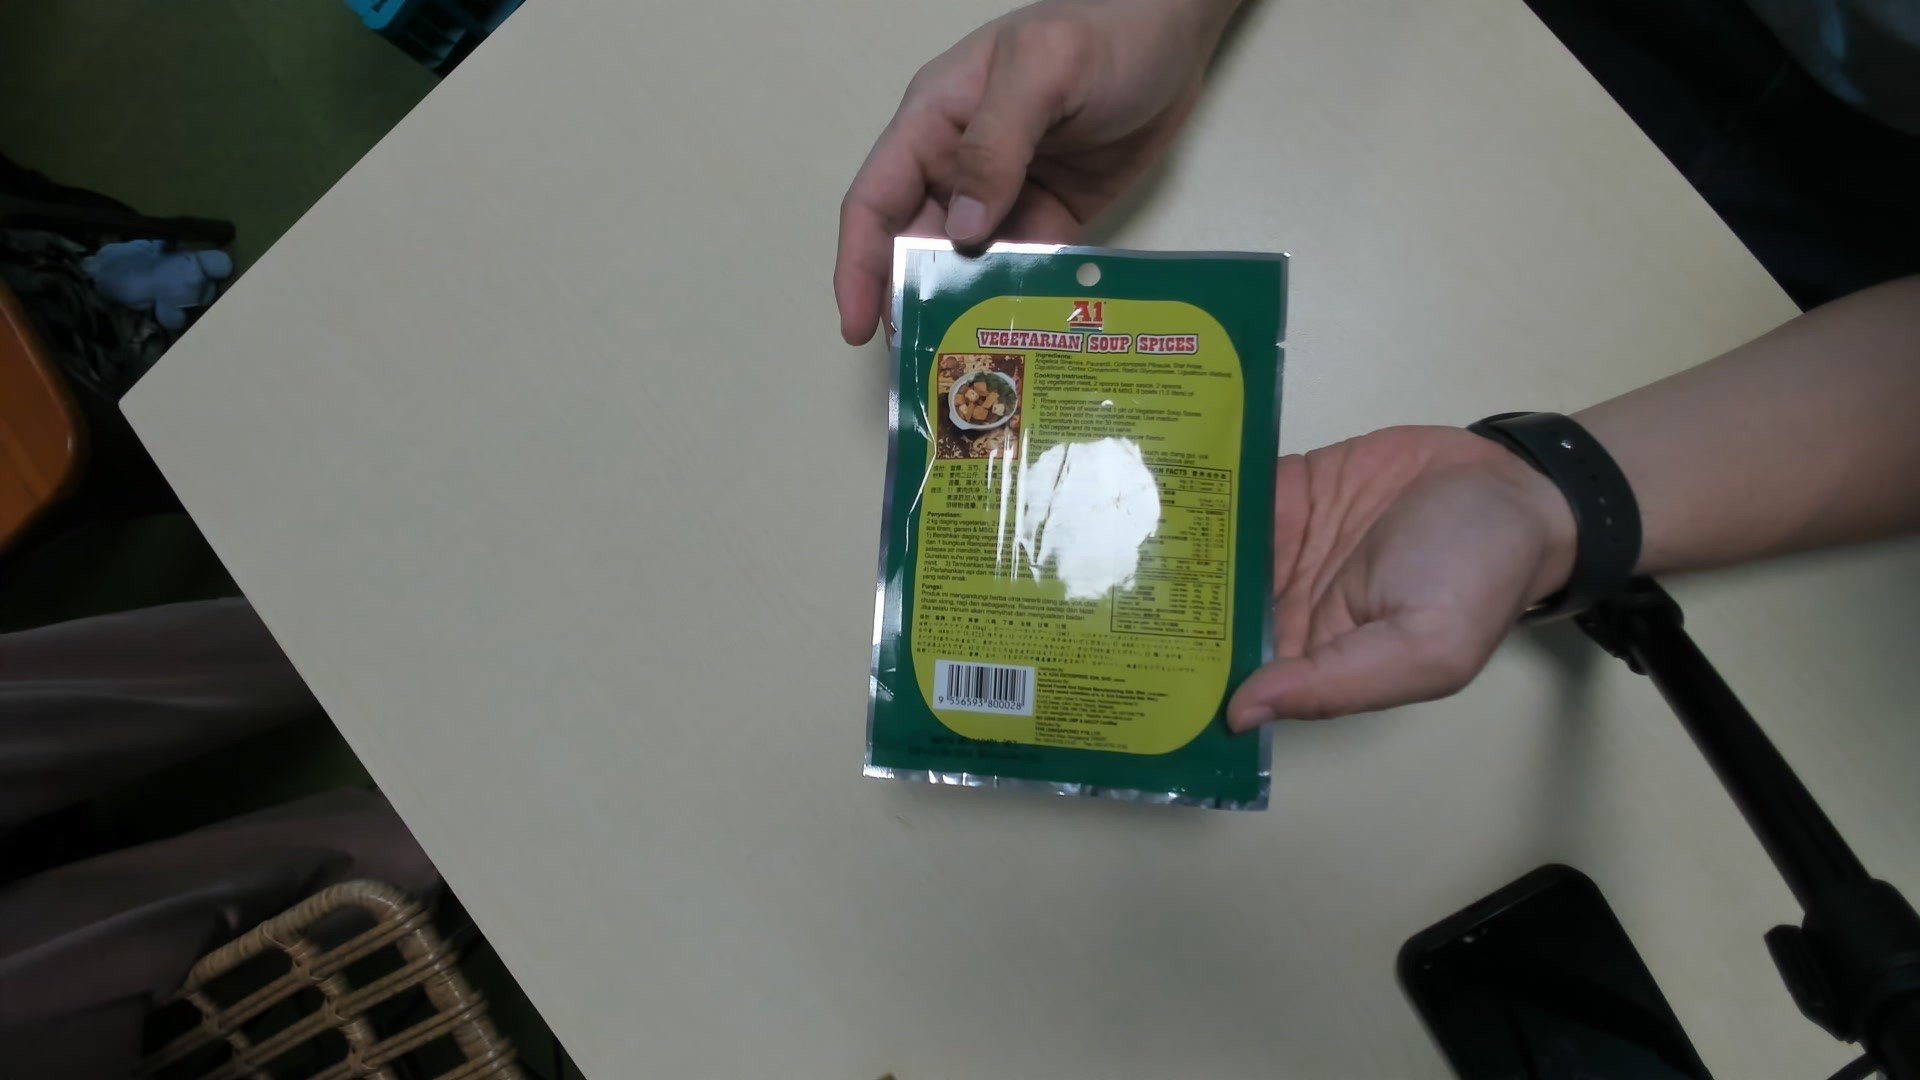OtherSauceDressing_0-99g_NonHalal_NonHealthy: (869, 241, 1284, 816)
